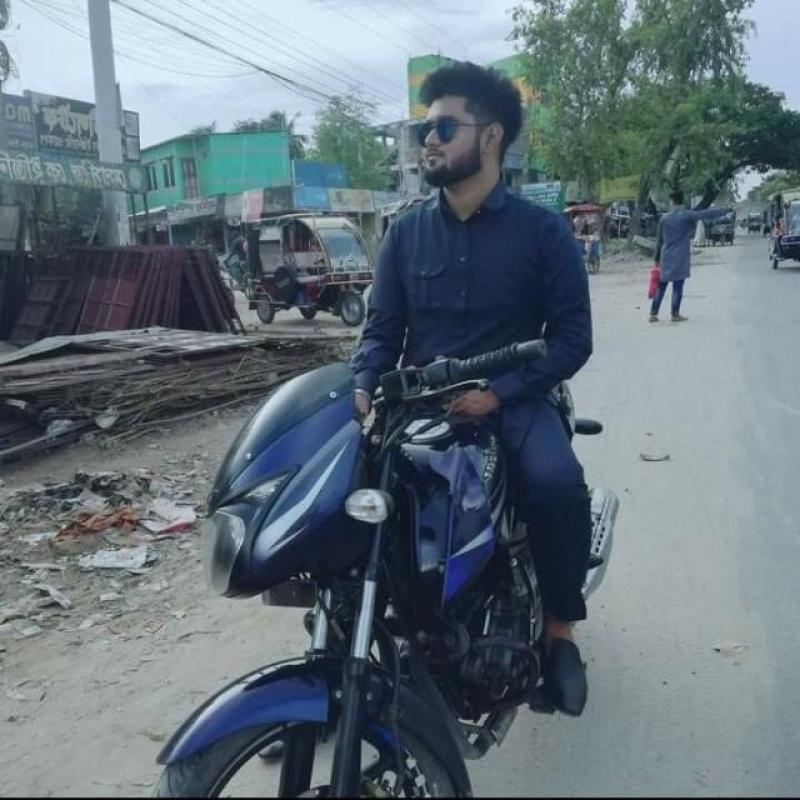nohelmet: (385, 56, 536, 220)
